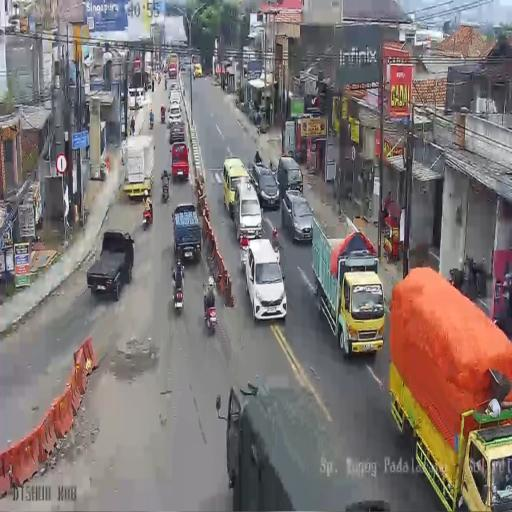3: (387, 267, 511, 512), (310, 215, 383, 355), (121, 134, 154, 200), (168, 54, 179, 78), (144, 51, 152, 74)
car: (242, 238, 286, 322), (86, 228, 135, 300), (172, 202, 202, 262), (281, 188, 313, 242), (222, 156, 249, 217), (248, 162, 280, 210), (276, 156, 303, 197), (171, 142, 189, 180), (169, 88, 181, 110), (168, 110, 182, 128), (135, 87, 146, 107), (128, 88, 136, 110), (194, 63, 202, 77), (186, 61, 194, 73), (170, 81, 178, 92), (180, 63, 186, 72)
truck: (202, 281, 216, 331), (173, 272, 184, 312), (160, 174, 170, 201), (160, 110, 166, 123), (149, 116, 154, 130), (164, 76, 168, 90)
